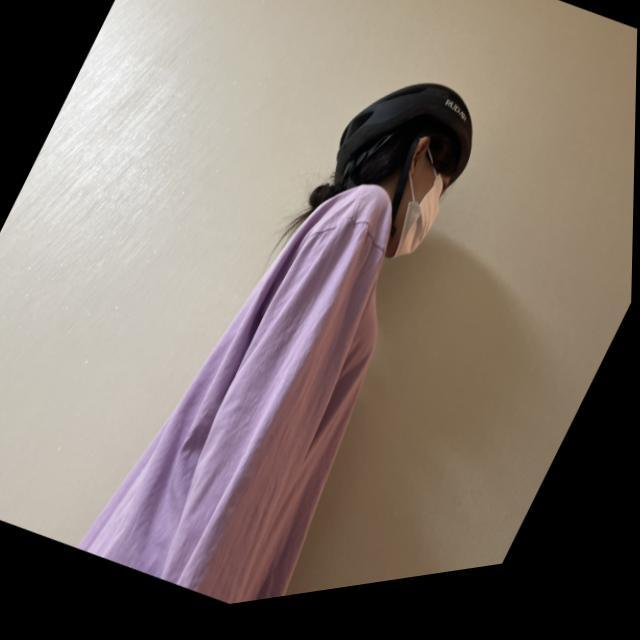Helmet: (329, 70, 483, 267)
